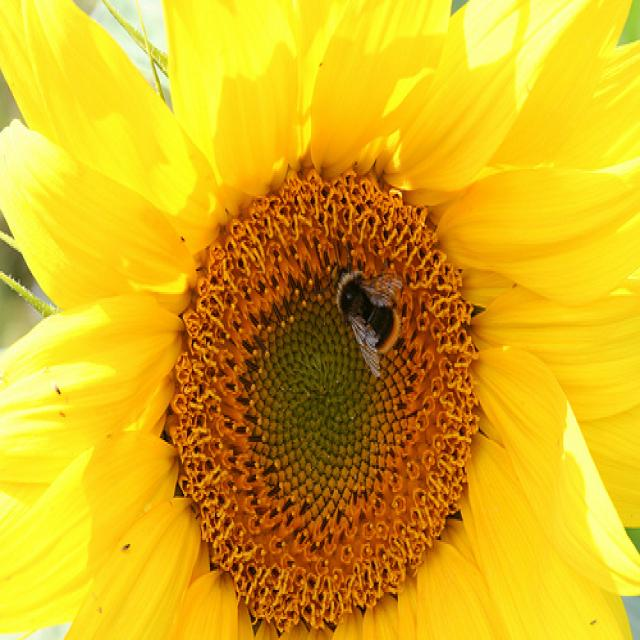sunflower: (55, 27, 602, 640)
